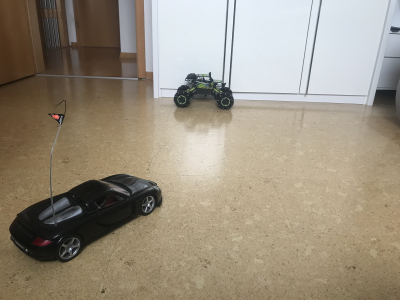remote control car: (173, 69, 235, 110)
